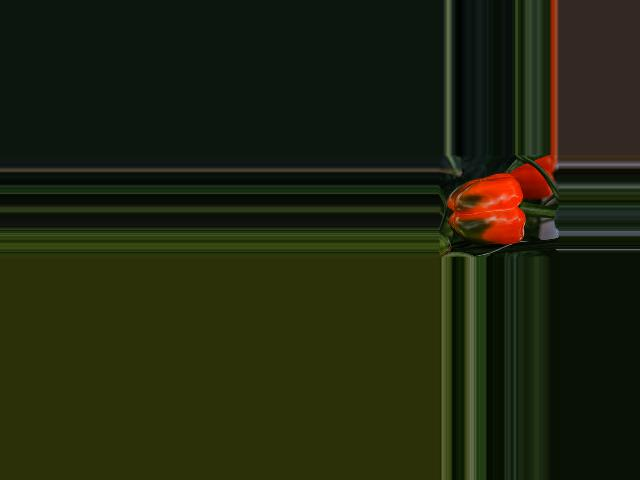bell_pepper: (441, 170, 534, 254)
